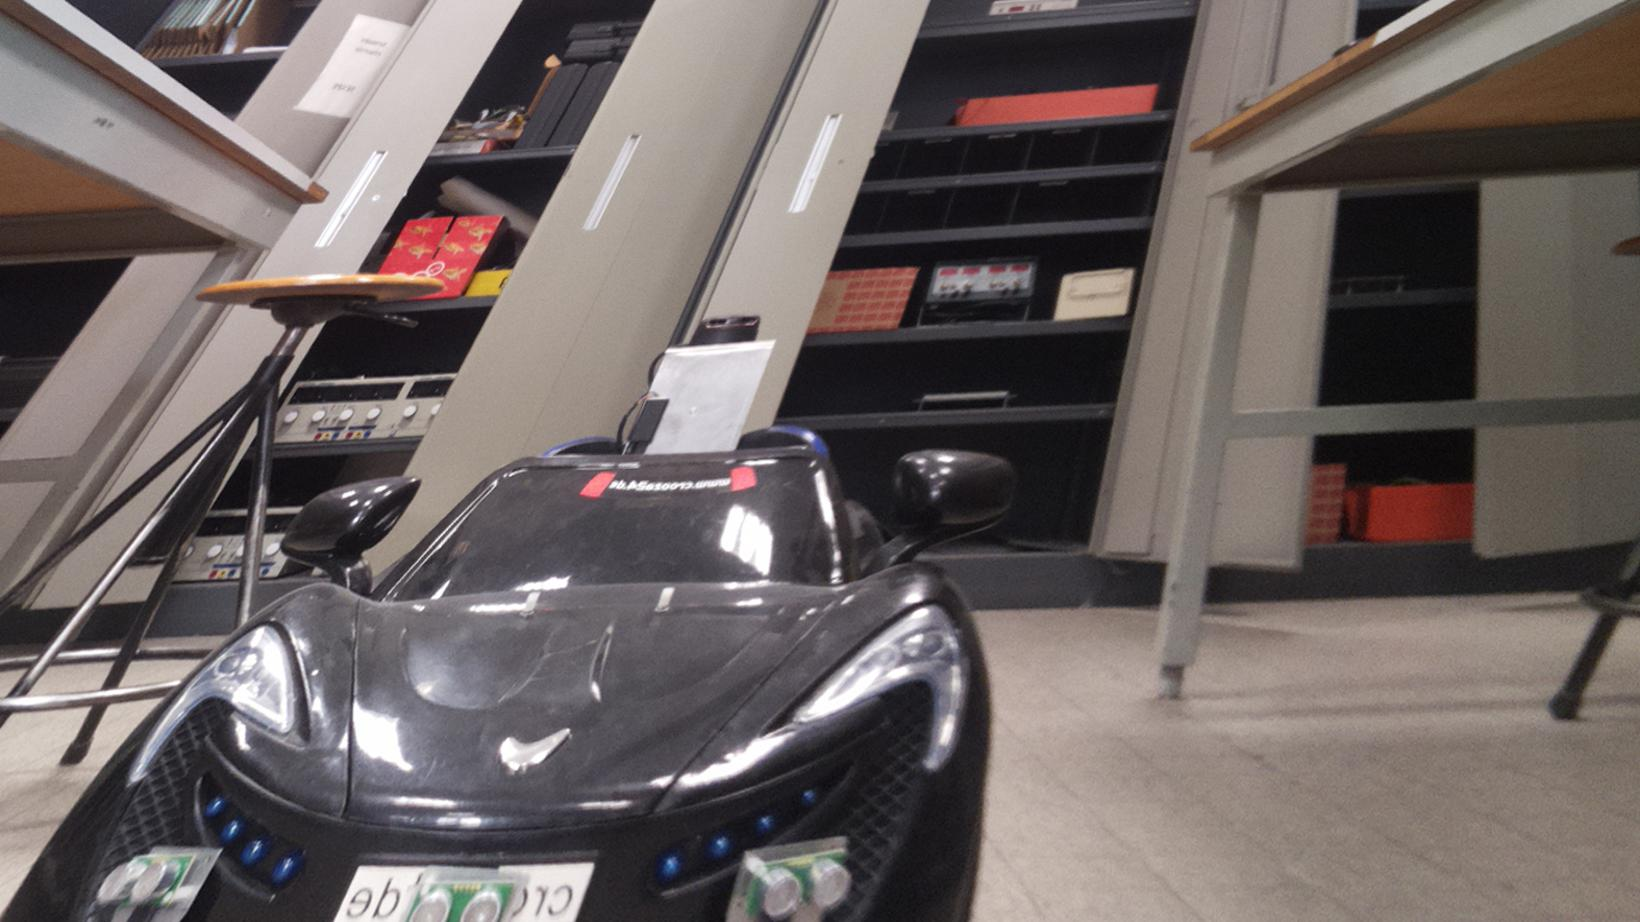big: (5, 414, 1032, 922)
